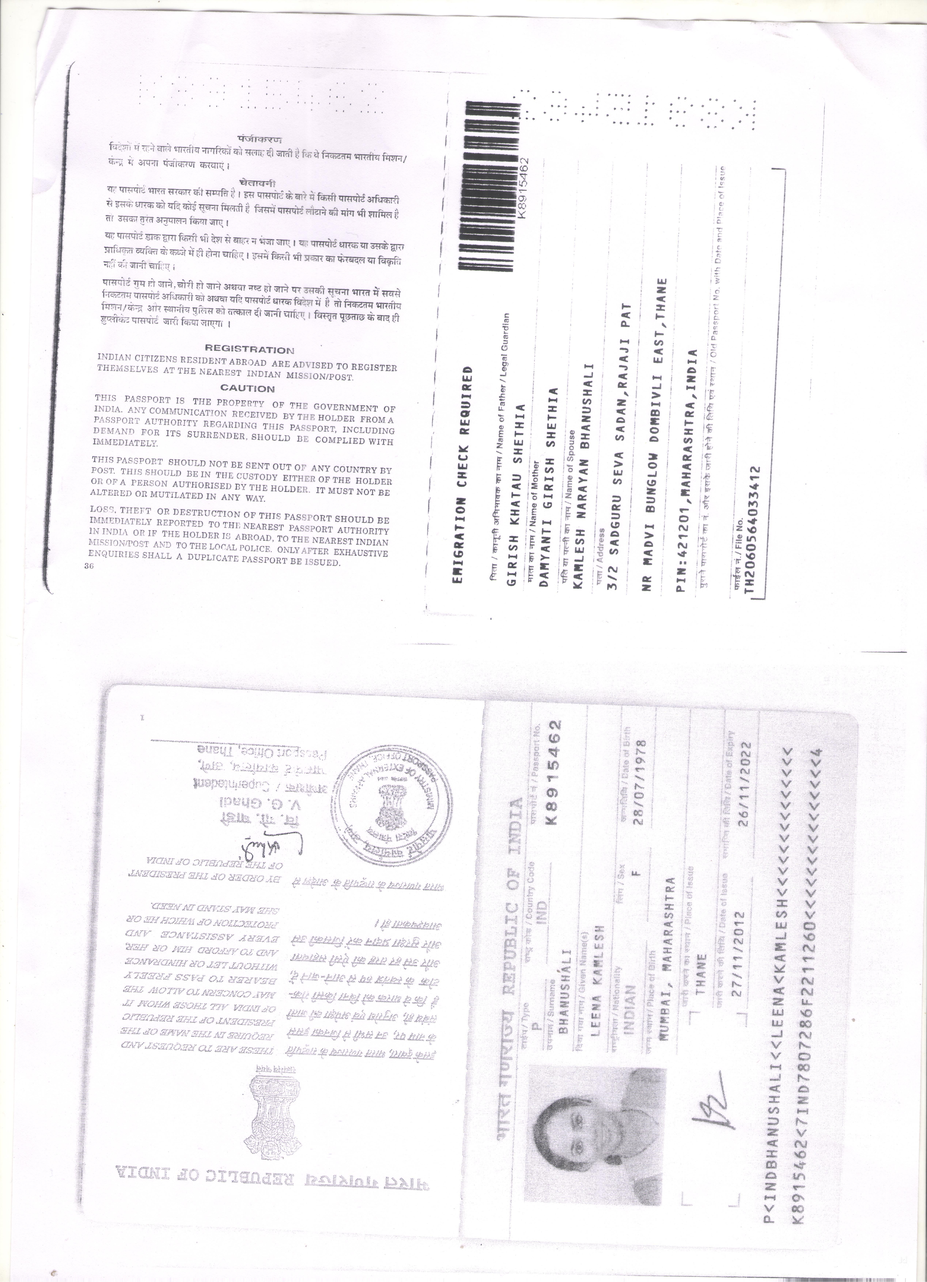DOB: (632, 735, 651, 827)
Surname: (556, 943, 571, 1040)
country_code: (534, 896, 553, 930)
date_of_expiry: (737, 737, 755, 832)
date_of_issue: (730, 905, 749, 1004)
details: (759, 738, 824, 1234)
name: (589, 921, 607, 1052)
nationality: (621, 975, 637, 1043)
passport_no: (543, 716, 568, 833)
photo: (530, 1064, 662, 1209)
place_of_birth: (657, 874, 677, 1046)
place_of_issue: (693, 948, 710, 995)
sex: (629, 864, 647, 882)
sign: (691, 1059, 738, 1143)
type: (528, 1016, 544, 1037)
